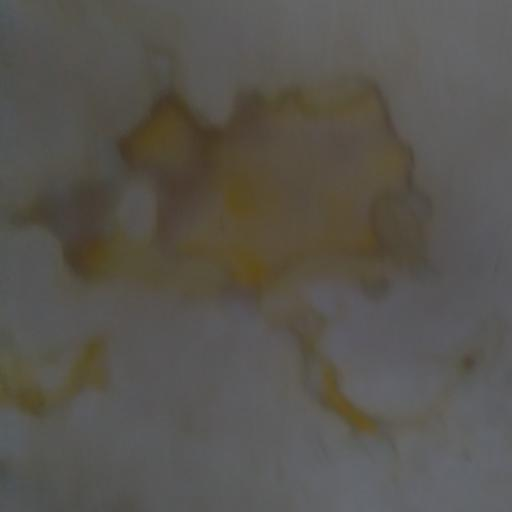algae: (40, 54, 449, 401)
